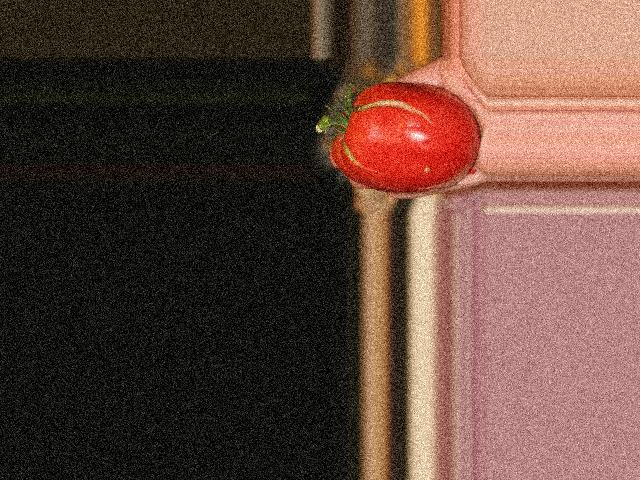tomato: (330, 84, 479, 194)
